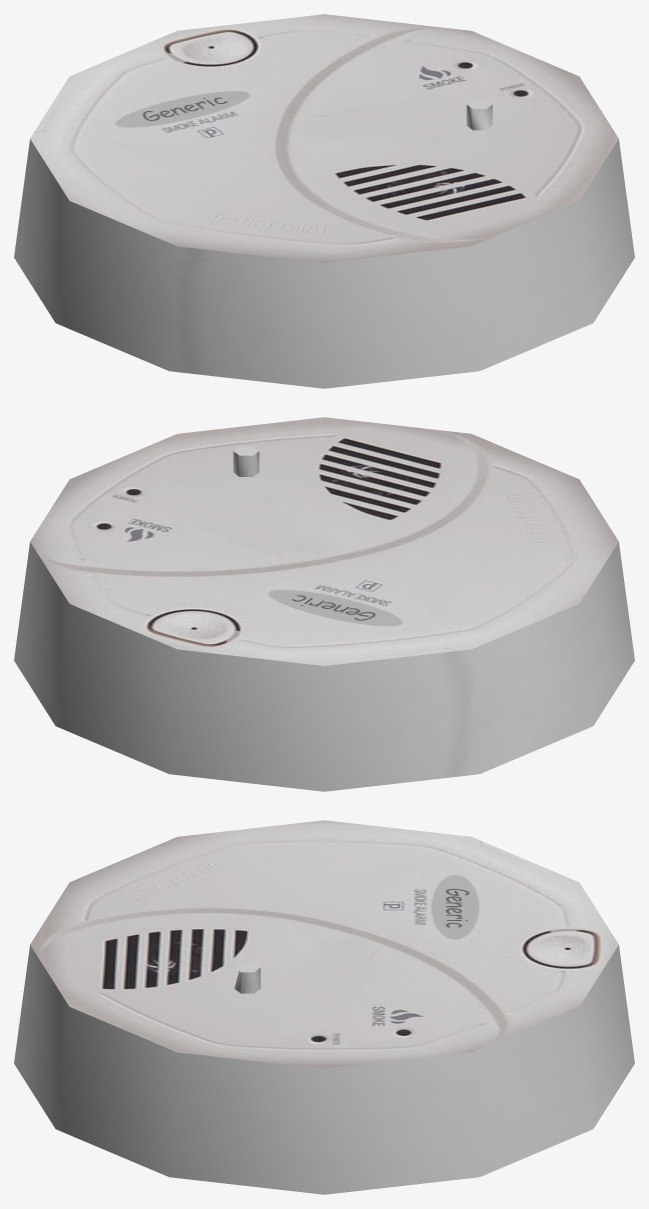
File: Smoke Detector_lod3.fbx
The picture shows the model from 3 angles, top to bottom: view 1: azimuth 30°, elevation 25°; view 2: azimuth 150°, elevation 25°; view 3: azimuth 270°, elevation 25°; orthographic projection.
Parts seen in each view (by area): view 1: Smoke_Detector, Detector_Button; view 2: Smoke_Detector, Detector_Button; view 3: Smoke_Detector, Detector_Button.
Boxes of the visible parts, left/top/right/bottom form: Smoke_Detector: left=14, top=14, right=634, bottom=388; Detector_Button: left=466, top=99, right=492, bottom=130; Smoke_Detector: left=14, top=417, right=634, bottom=791; Detector_Button: left=233, top=446, right=259, bottom=476; Smoke_Detector: left=14, top=820, right=634, bottom=1194; Detector_Button: left=234, top=962, right=260, bottom=993.
Bounding box in the file's own units: 2 × 0.5436 × 2.
